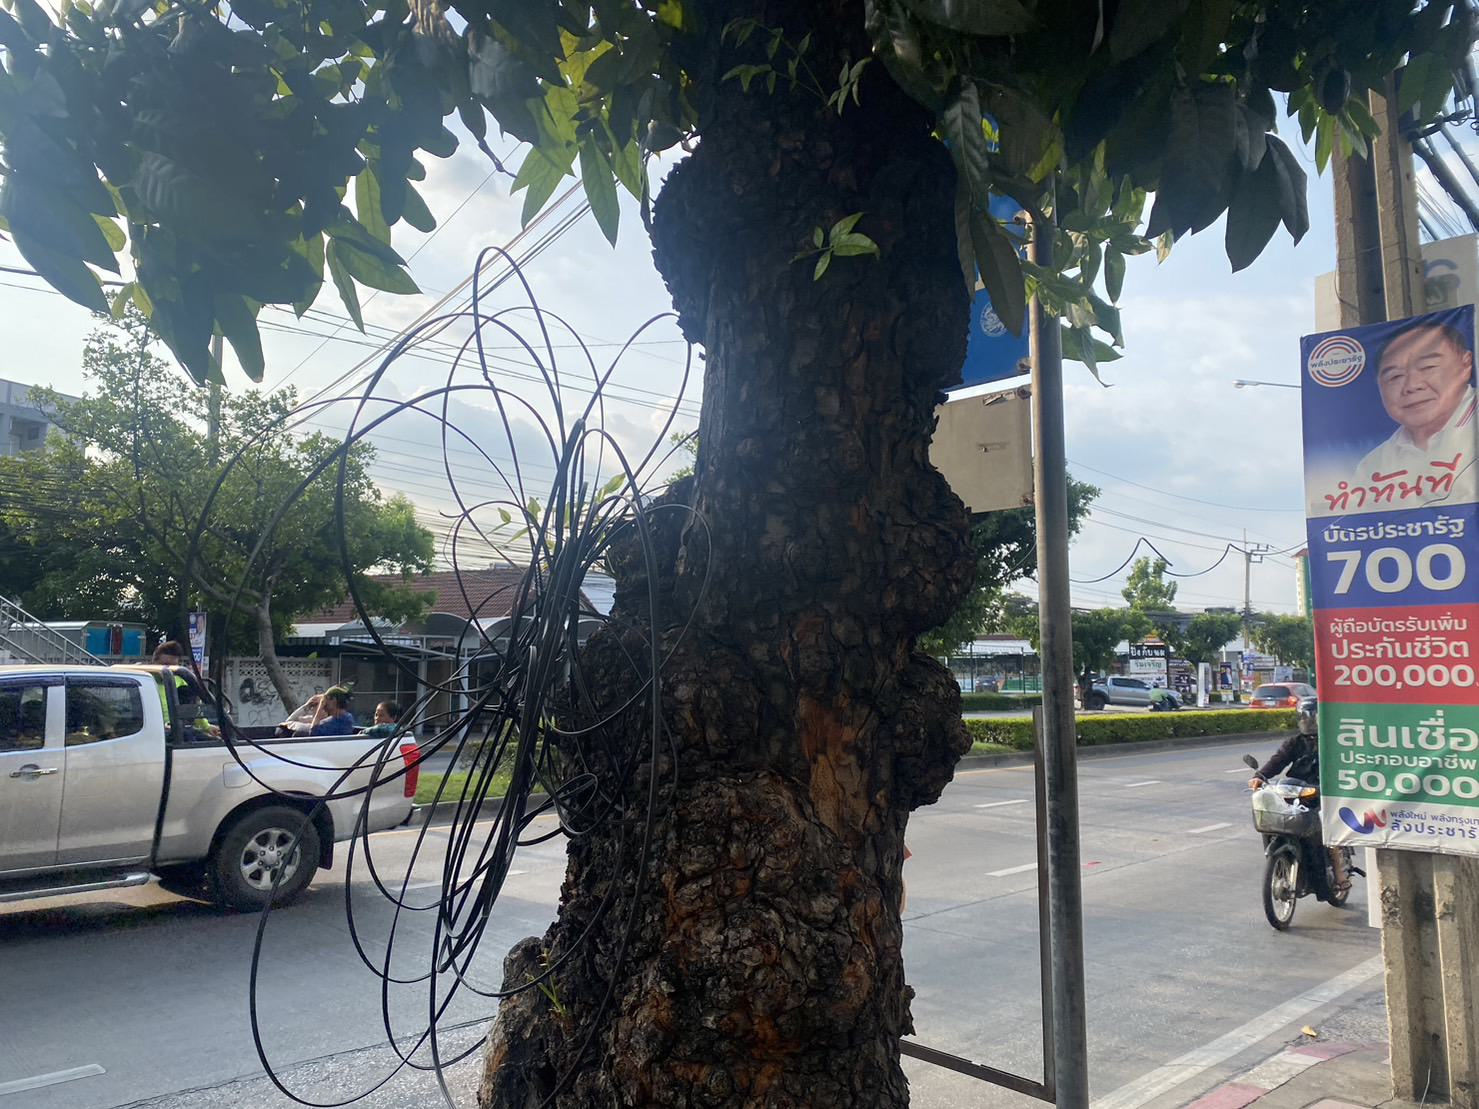Banner: (1273, 308, 1479, 868)
